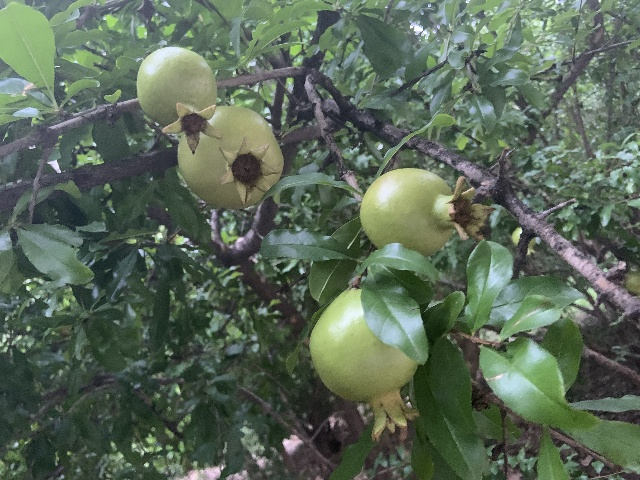mid-growth: (309, 286, 419, 441), (359, 166, 496, 256), (176, 105, 283, 209), (136, 46, 221, 151)
